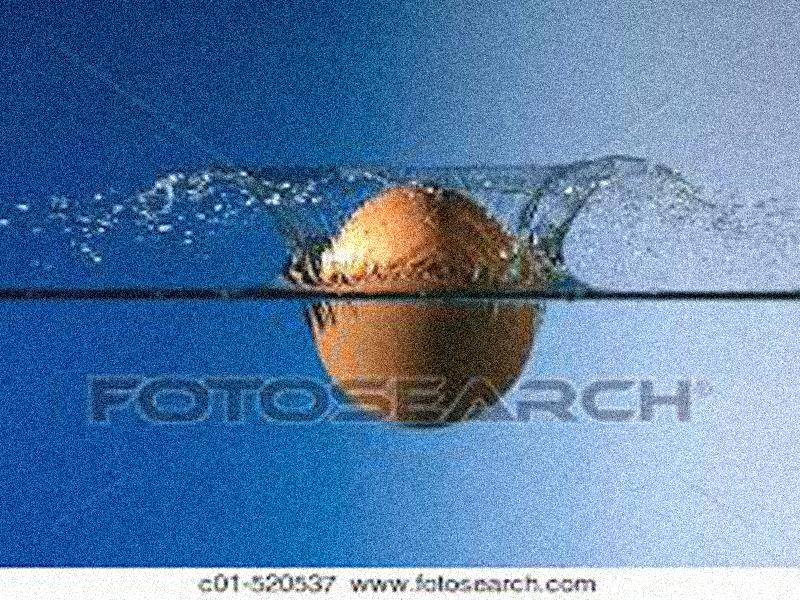Eggs: (312, 181, 537, 424)
